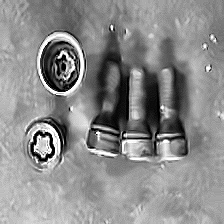defected: (197, 27, 222, 78), (100, 15, 139, 45), (62, 99, 82, 116)
